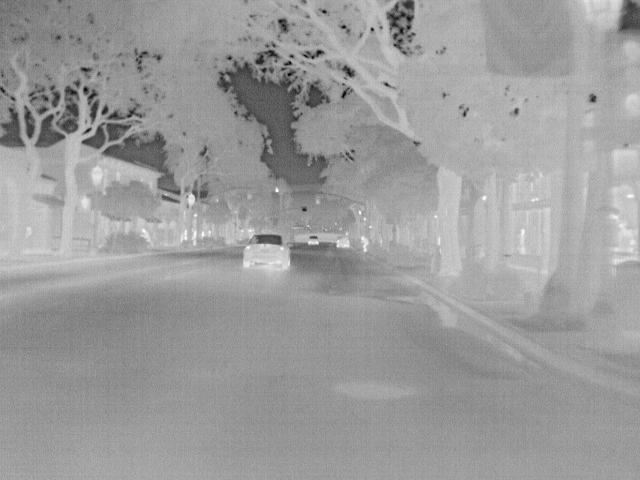car: (242, 233, 291, 273), (336, 236, 352, 250), (306, 235, 321, 246)
person: (614, 216, 636, 251), (514, 228, 526, 253), (357, 234, 370, 253)
